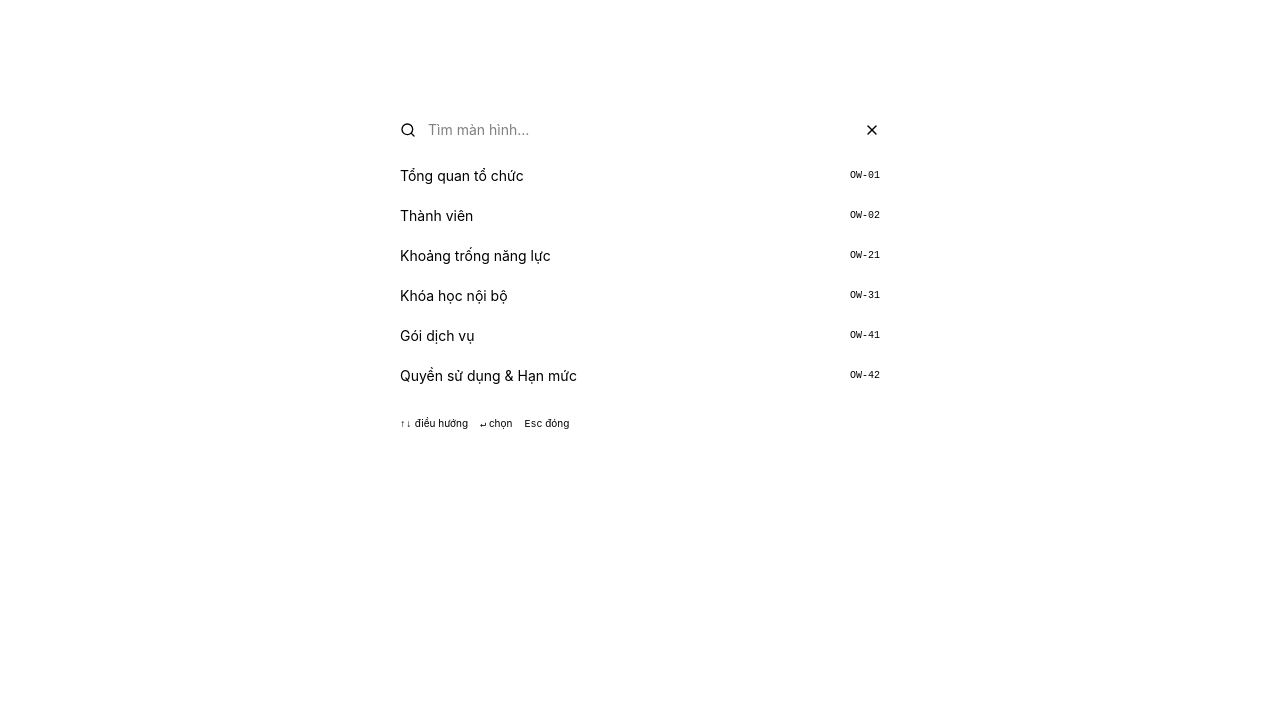
CommandPalette › filters results by search query
In the field with placeholder "Tìm màn hình…": (640, 130) [428, 120, 852, 140], type "Thành viên"
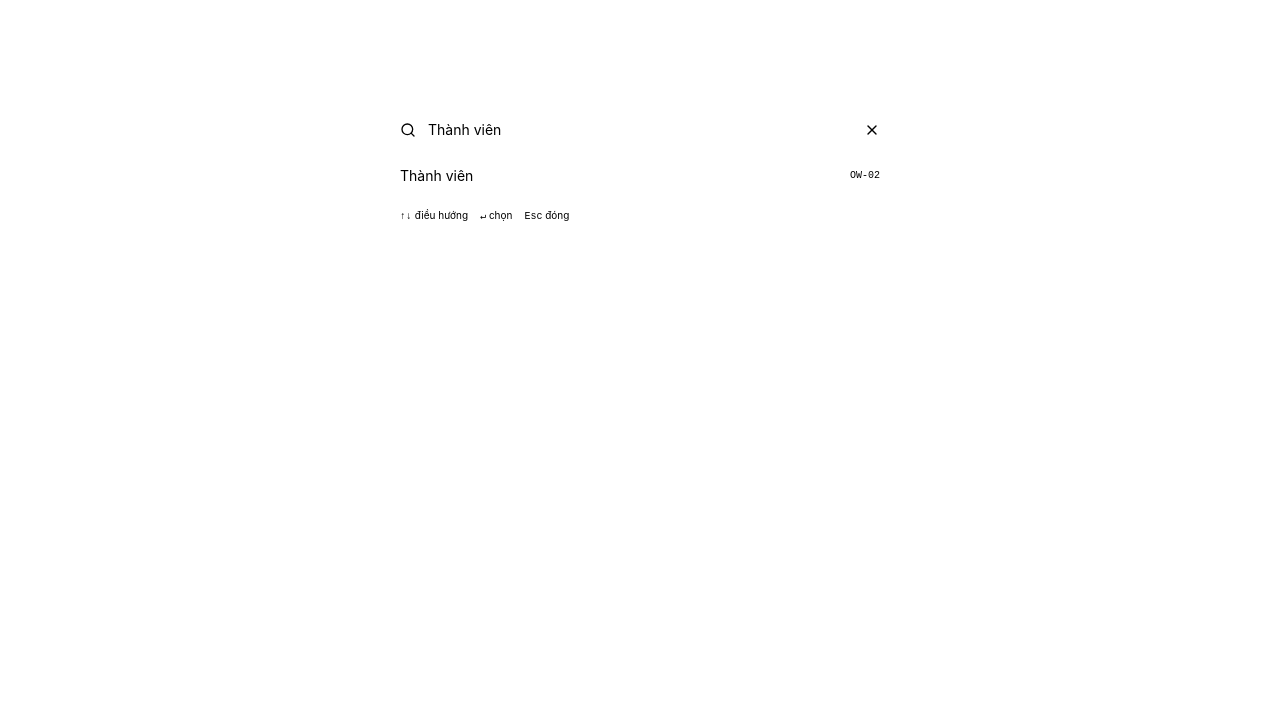
Expected: the text "Thành viên" is shown, [400, 167, 473, 184]
Expected: the option "Khoảng trống năng lực" is gone
